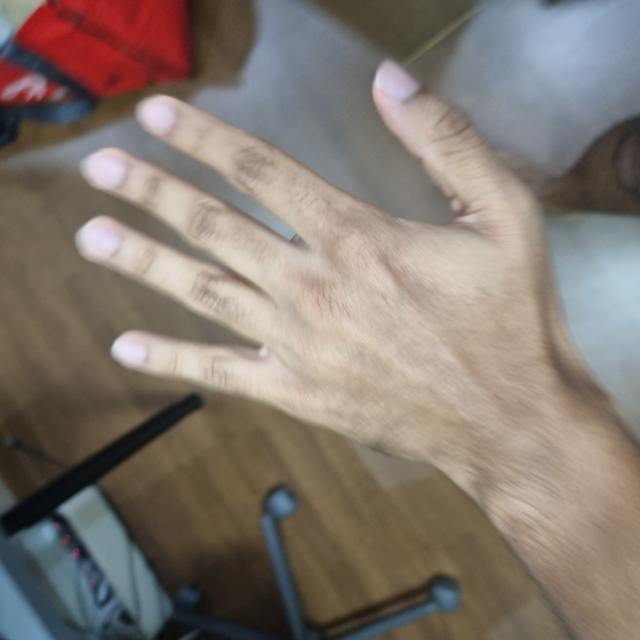Paper: (159, 79, 570, 586)
